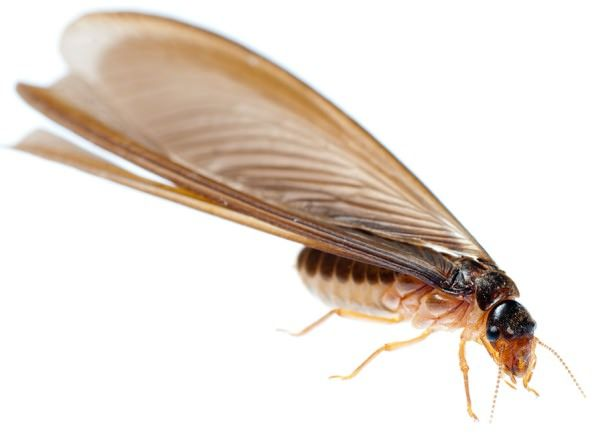flying termite: (5, 6, 589, 433)
